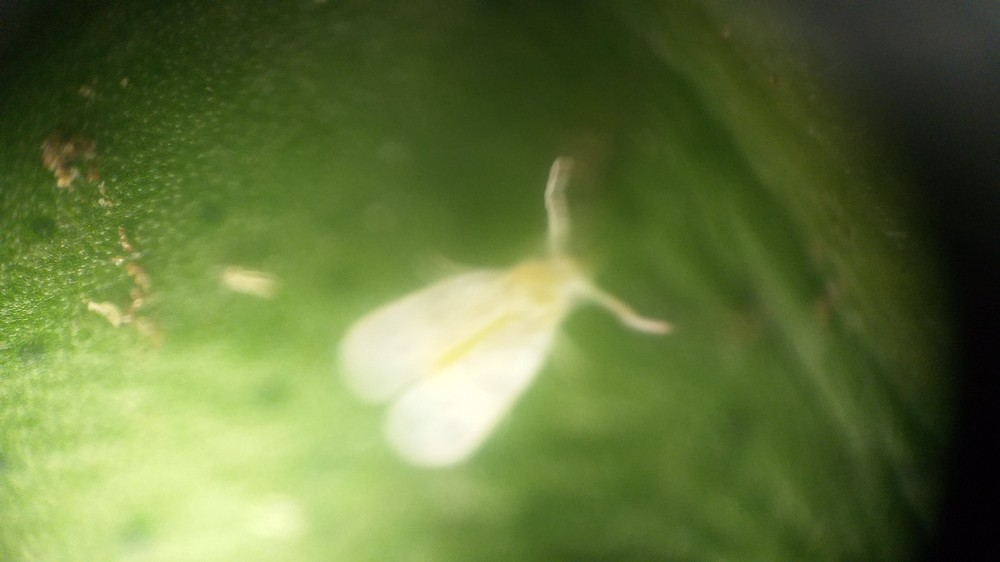Mosca Blanca: (324, 158, 683, 470)
